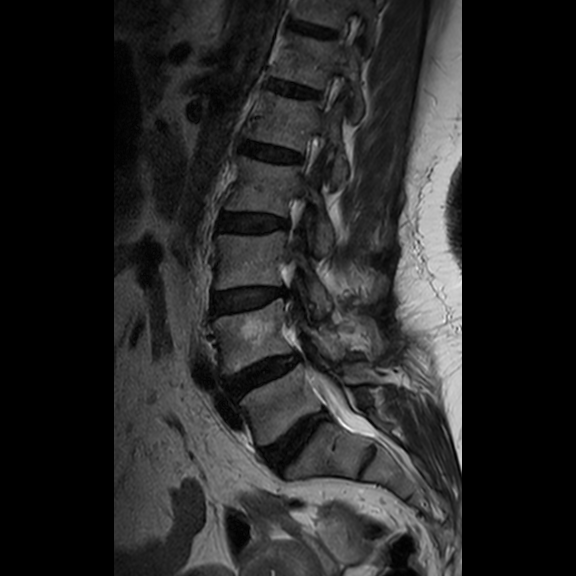LFS0: (288, 121, 331, 186)
